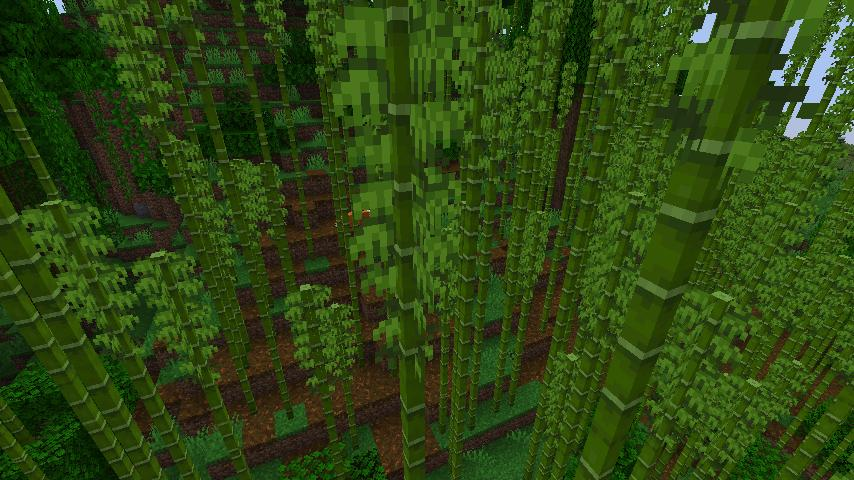fox: (331, 207, 378, 230)
